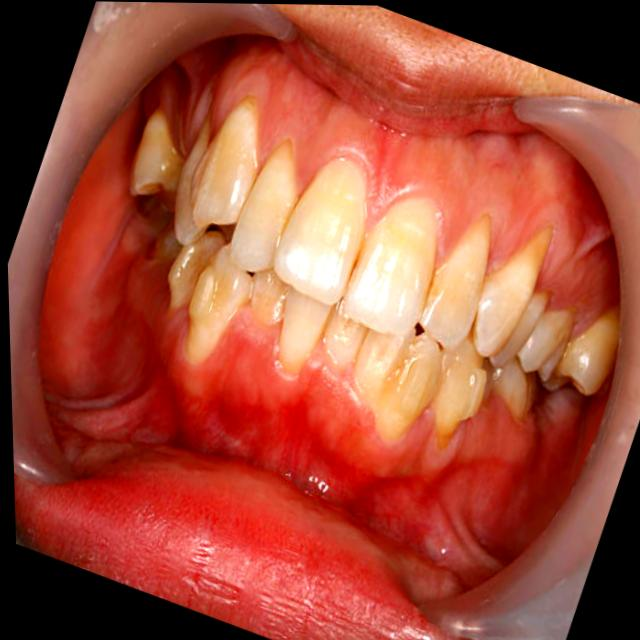gingivitis: (167, 44, 620, 330), (123, 259, 549, 516)
